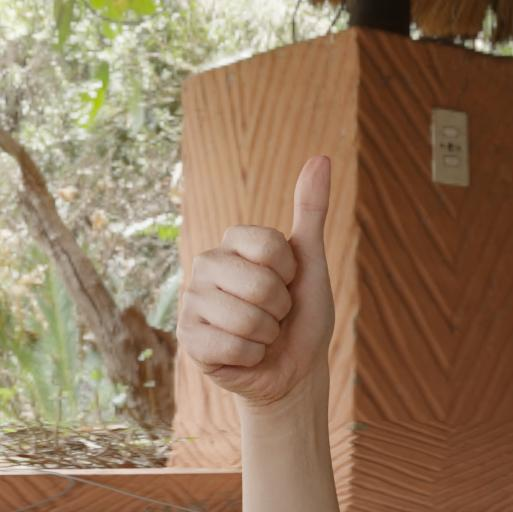thumbs-up: (187, 146, 345, 400)
